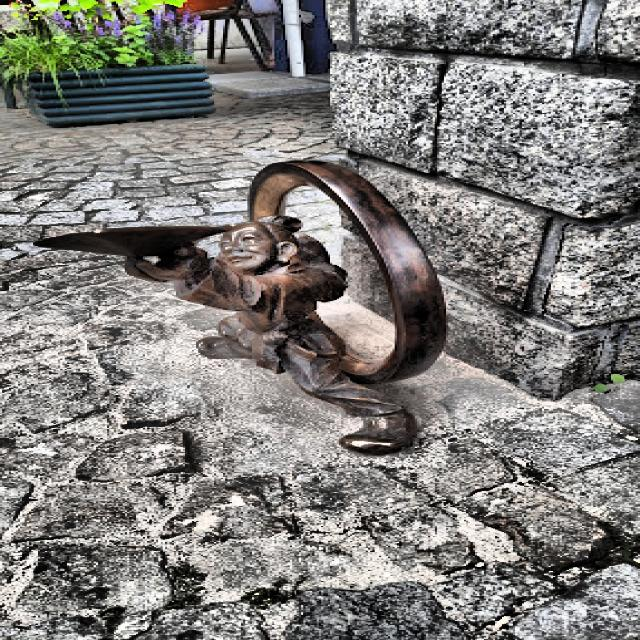TianTian: (36, 161, 446, 454)
